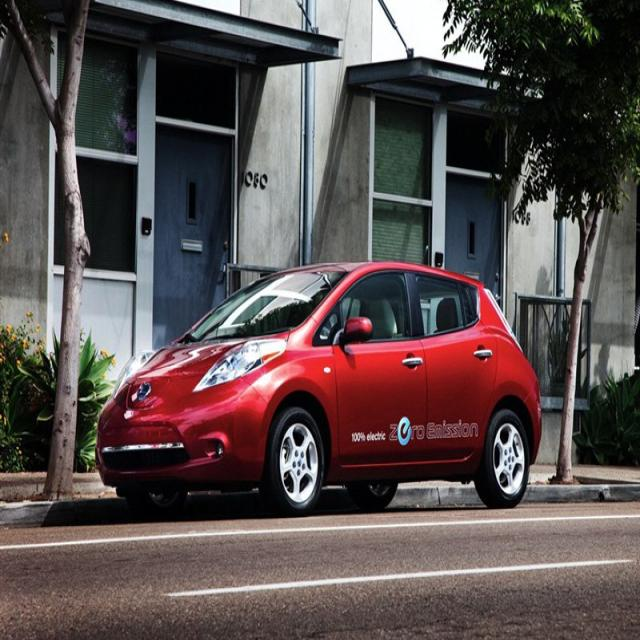door: (408, 271, 507, 461)
front_bumper: (94, 382, 272, 487)
front_glass: (185, 266, 345, 344)
front_left_side_door: (332, 268, 429, 470)
front_left_side_light: (192, 340, 263, 394)
front_left_side_mirror: (336, 314, 375, 349)
wheel: (271, 408, 326, 514), (480, 408, 529, 506)
